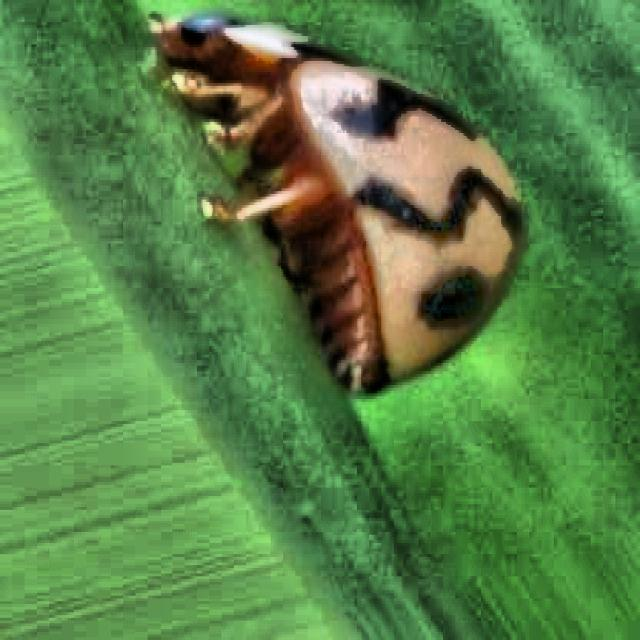Asian-Lady-beetle: (131, 0, 578, 477)
